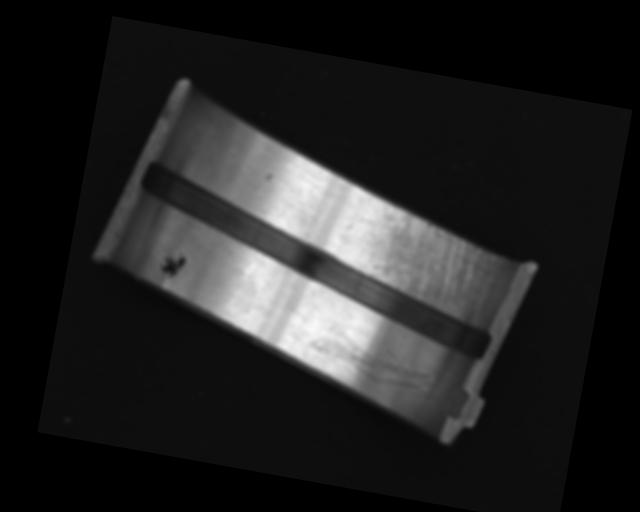blot: (157, 247, 187, 281)
bruise: (263, 172, 275, 184)
gap: (116, 158, 513, 360)
nick: (304, 324, 438, 394)
scratch: (343, 191, 512, 329)
